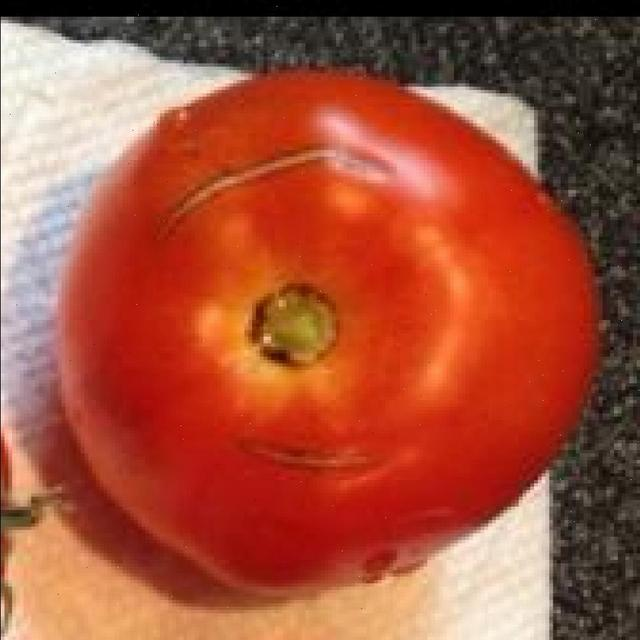Cracking Fruit: (141, 48, 208, 310)
